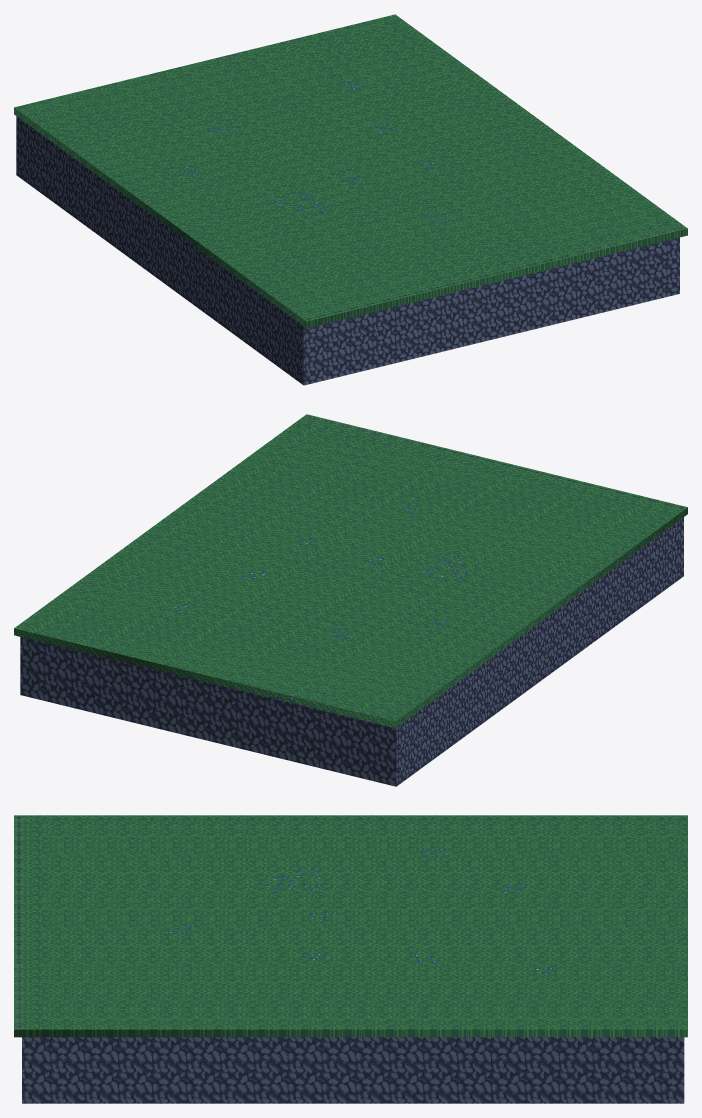
File: ChaoGrande1.fbx
3 views of the same model, one above another, from view 1: azimuth 30°, elevation 25°; view 2: azimuth 150°, elevation 25°; view 3: azimuth 270°, elevation 25° (orthographic). The views are drawn at different scales.
Parts seen in each view (by area): view 1: ChaoGrande1; view 2: ChaoGrande1; view 3: ChaoGrande1.
Part boxes in pixels (x1=…): ChaoGrande1: x1=14, y1=14, x2=687, y2=385; ChaoGrande1: x1=14, y1=414, x2=687, y2=786; ChaoGrande1: x1=14, y1=815, x2=687, y2=1103.
Size of the model in its own units: 7001 by 9305 by 1170.
